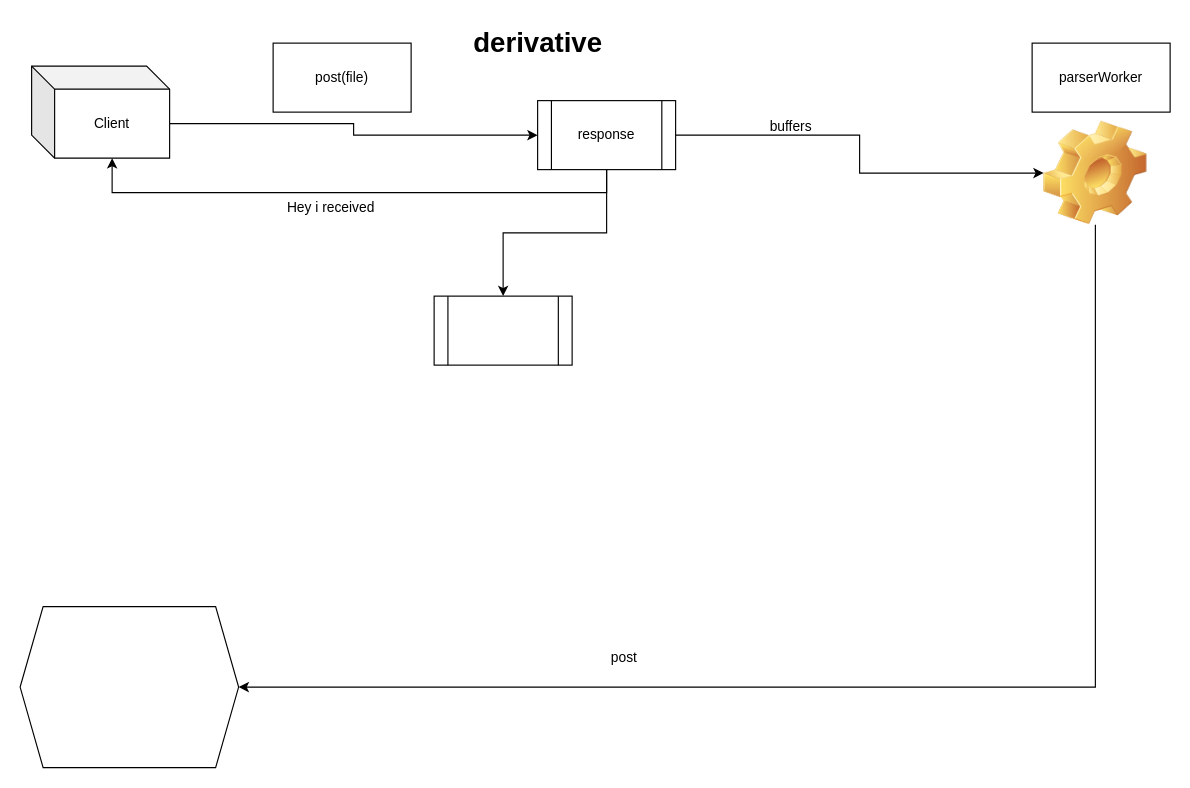
This 1190x788 diagram has some shape labels left out. Each missing label, with the centre of its shape:
"in 1 second server can take 5 req, each has send 200mb" belongs at [502,330].
"Server-tiles" belongs at [129,686].
